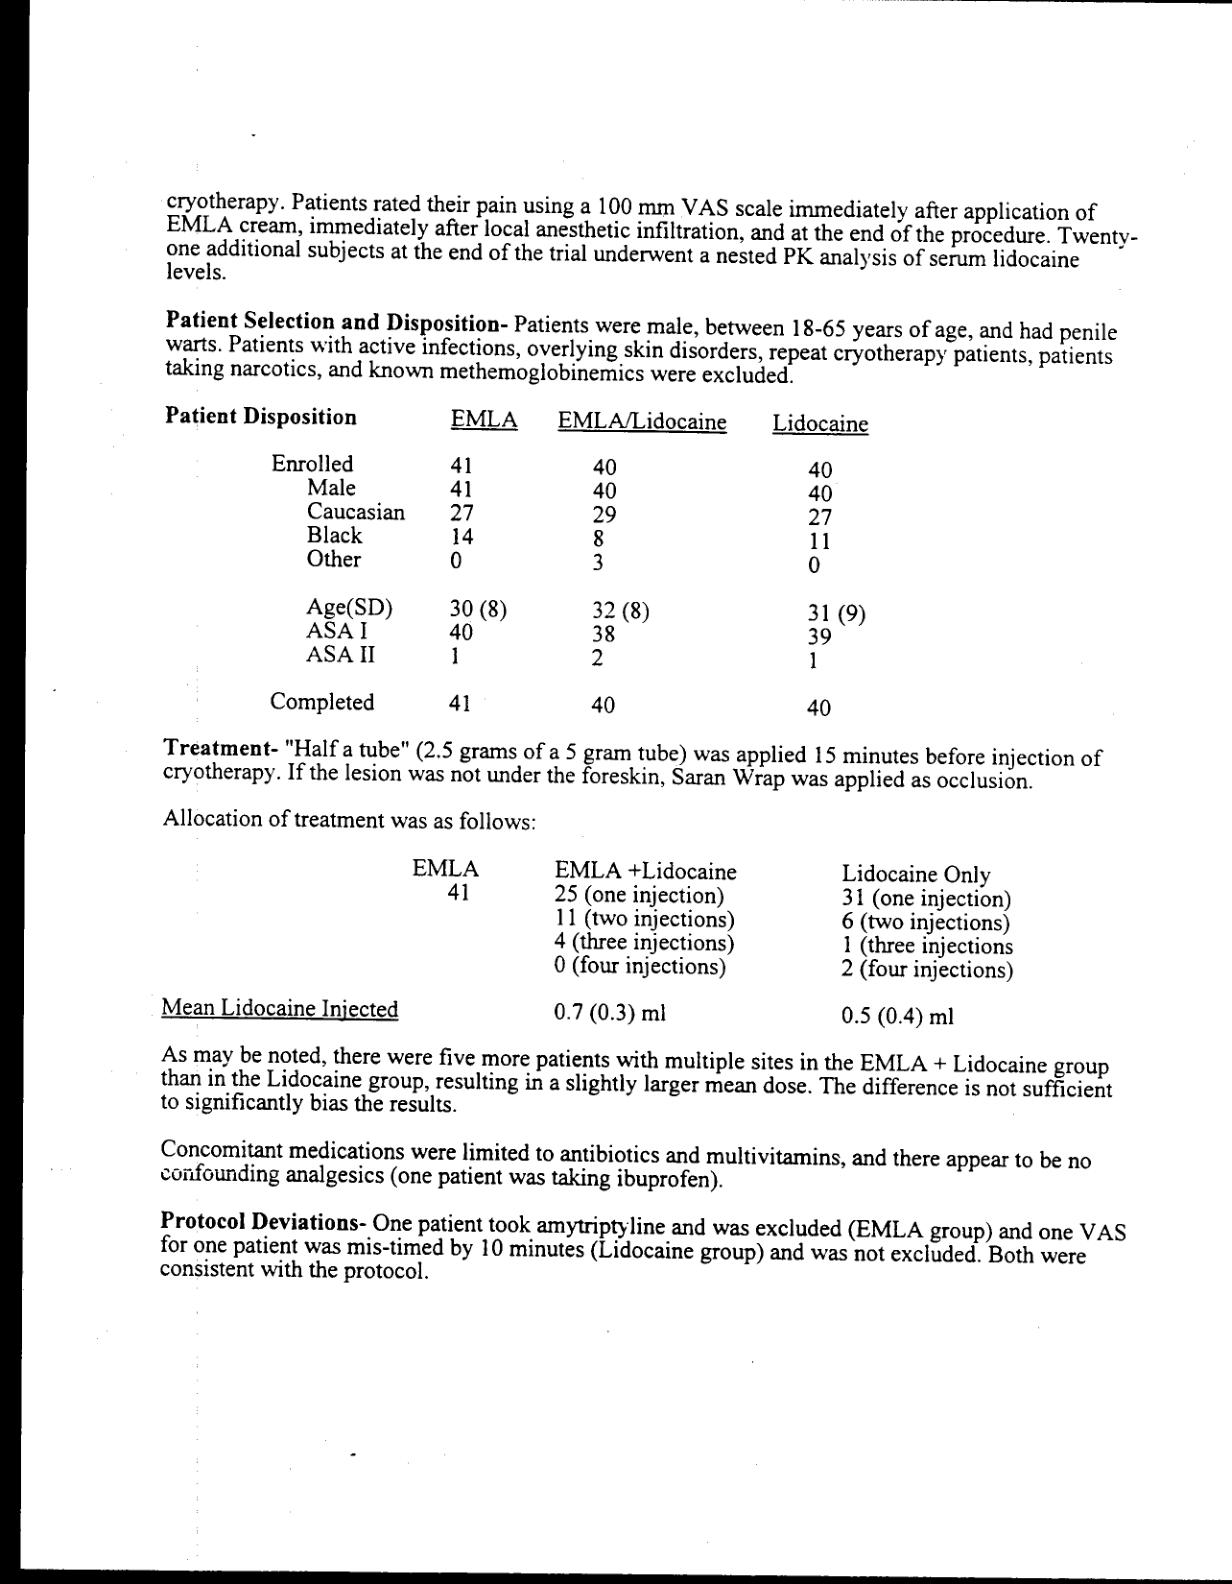nolines: (163, 402, 869, 719), (409, 854, 1015, 1031)
